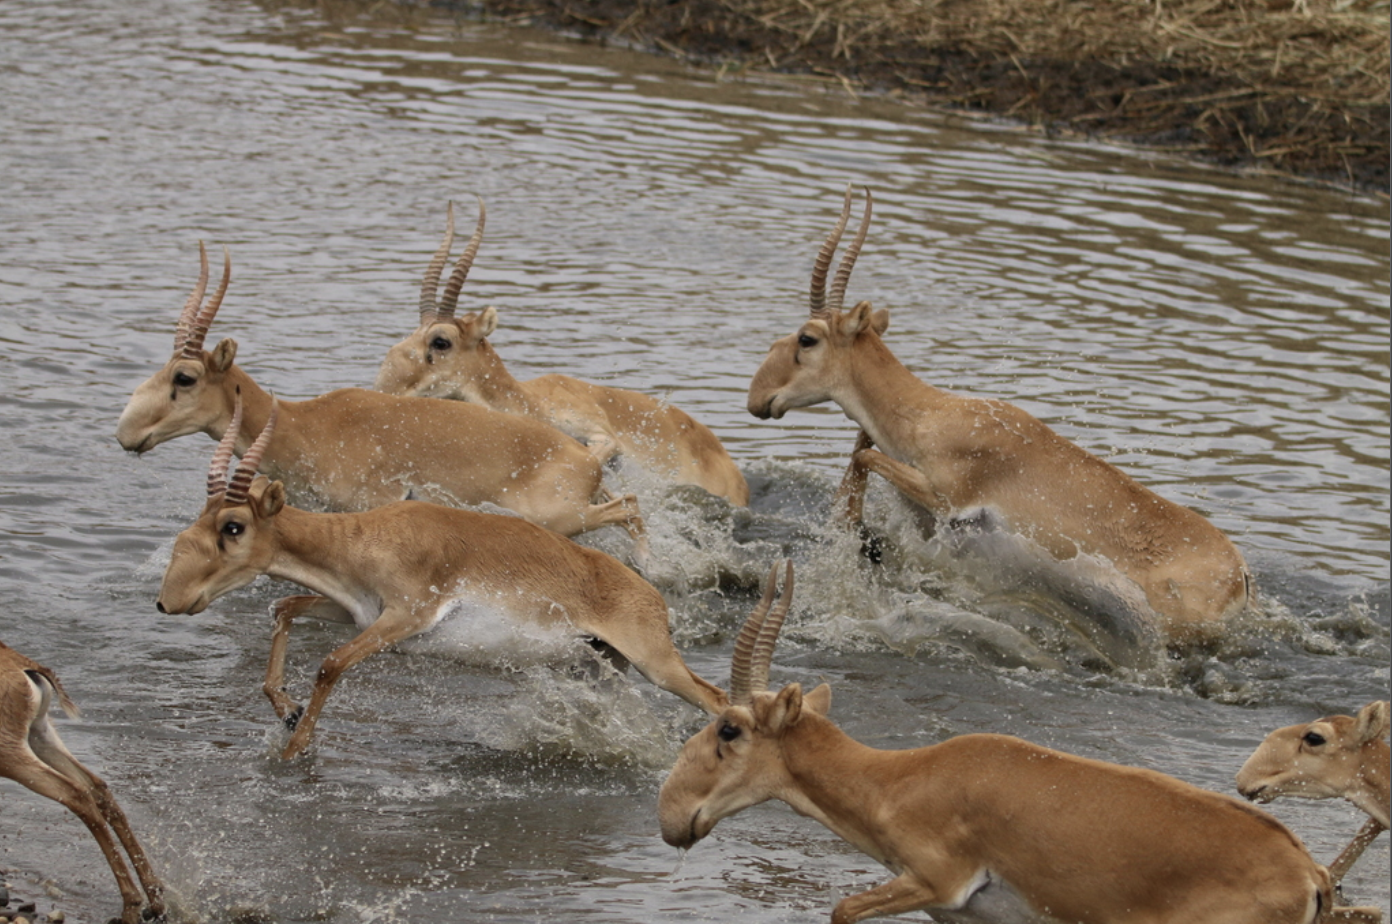saiga: (730, 160, 1260, 707), (640, 543, 1356, 924), (122, 383, 701, 760), (90, 231, 615, 544)
